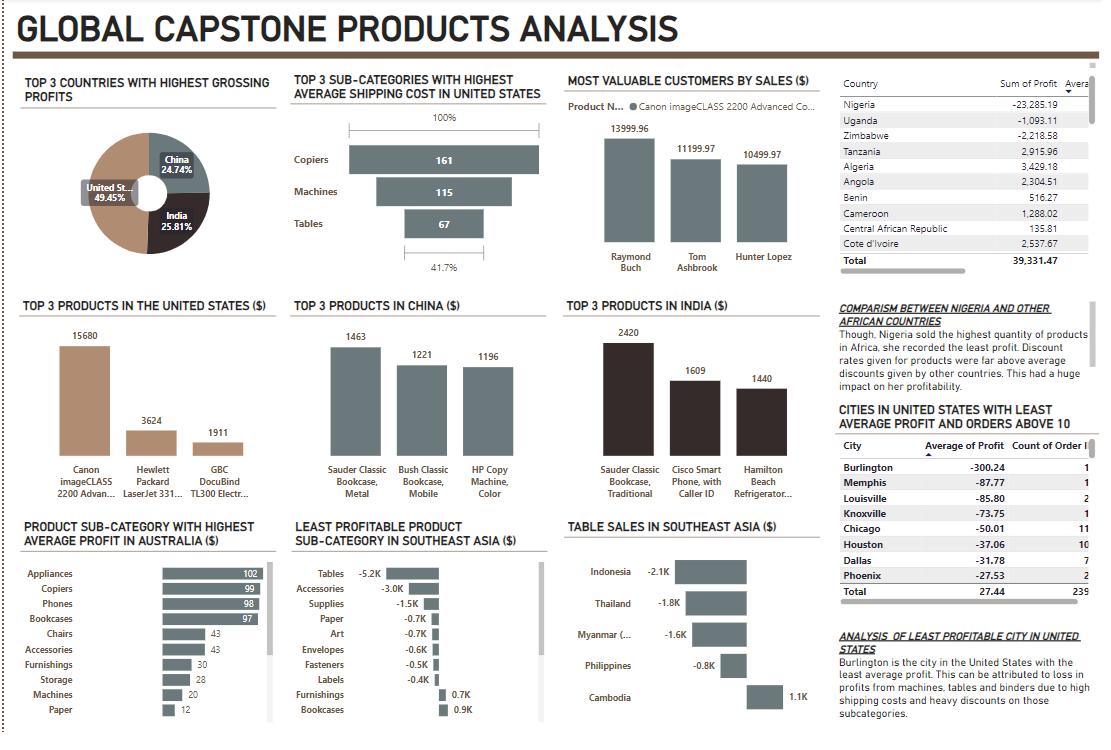

The page's visual inventory and layout, read from the dashboard file:
{"tool":"powerbi","page":{"name":"Page 1","canvas":[1500,1000],"ordinal":0},"visuals":[{"type":"donutChart","title":"TOP 3 COUNTRIES WITH HIGHEST GROSSING PROFITS","fields":{"Y":["Orders.Profit"],"Category":["Orders.Country","Orders.Order Date.Variation.Date Hierarchy.Year"]},"box":[22.1,100.2,348.2,280.2],"z":0},{"type":"clusteredColumnChart","title":"TOP 3 PRODUCTS IN THE UNITED STATES ($)","fields":{"Category":["Orders.Product Name"],"Series":["Orders.Country"],"Y":["Orders.Profit"]},"box":[20.4,407.6,349.9,280.2],"z":1000},{"type":"clusteredColumnChart","title":"TOP 3 PRODUCTS IN CHINA ($)","fields":{"Category":["Orders.Product Name"],"Y":["Orders.Profit"],"Series":["Orders.Country"]},"box":[389.5,408.5,348,280.2],"z":2000},{"type":"clusteredColumnChart","title":"TOP 3 PRODUCTS IN INDIA ($)","fields":{"Category":["Orders.Product Name"],"Series":["Orders.Country"],"Y":["Orders.Profit"]},"box":[758.6,407.6,349.9,280.2],"z":3000},{"type":"funnel","title":"TOP 3 SUB-CATEGORIES WITH HIGHEST AVERAGE SHIPPING COST IN UNITED STATES ($)","fields":{"Category":["Orders.Sub-Category","Orders.Country","Orders.Order Date.Variation.Date Hierarchy.Year"],"Y":["Orders.Shipping Cost"]},"box":[388.9,100.2,348.2,280.2],"z":4000},{"type":"textbox","title":"ANALYSIS","box":[1129.4,407.6,358.4,141],"z":5000},{"type":"textbox","title":"GLOBAL CAPSTONE PRODUCTS ANALYSIS IN 2014","box":[11.9,13.6,1475.9,86.6],"z":6000},{"type":"tableEx","title":"CITIES IN UNITED STATES WITH LEAST AVERAGE PROFIT AND ORDERS ABOVE 10","fields":{"Values":["Orders.City","Orders.Profit","Orders.Order ID"]},"box":[1129.4,548.6,358.4,280.2],"z":7000},{"type":"tableEx","title":"AFRICAN COUNTRIES PROFITABILITY ($)","fields":{"Values":["Orders.Country","Orders.Profit","Orders.Discount","Orders.Shipping Cost","Orders.Sales"]},"box":[1141.3,101.9,358.4,280.2],"z":8000},{"type":"clusteredBarChart","title":"LEAST PROFITABLE PRODUCT SUB-CATEGORY IN SOUTHEAST ASIA ($)","fields":{"Category":["Orders.Sub-Category","Orders.Order Date.Variation.Date Hierarchy.Year"],"Y":["Orders.Profit"]},"box":[390.6,708.2,348.2,280.2],"z":9000},{"type":"clusteredBarChart","title":"TABLE SALES IN SOUTHEAST ASIA ($)","fields":{"Category":["Orders.Country","Orders.Order Date.Variation.Date Hierarchy.Year"],"Series":["Orders.Sub-Category"],"Y":["Orders.Profit"]},"box":[760.9,708.2,348.2,280.2],"z":10000},{"type":"clusteredBarChart","title":"PRODUCT SUB-CATEGORY WITH HIGHEST AVERAGE PROFIT IN AUSTRALIA ($)","fields":{"Category":["Orders.Sub-Category","Orders.Order Date.Variation.Date Hierarchy.Year"],"Y":["Orders.Profit"]},"box":[22.1,708.2,348.2,280.2],"z":11000},{"type":"clusteredColumnChart","title":"MOST VALUABLE CUSTOMERS BY SALES ($)","fields":{"Category":["Orders.Customer Name","Orders.Order Date.Variation.Date Hierarchy.Year"],"Y":["Orders.Sales"],"Series":["Orders.Product Name"]},"box":[760.9,101.9,348.2,280.2],"z":12000},{"type":"textbox","box":[1129.4,852.6,358.4,135.9],"z":13000}]}

Visuals, with their boxes in screenshot pixels (x1, y1, x2, y2), scaled from the page's 1500x1000 canvas onto the 1111x750 screenshot:
"TOP 3 COUNTRIES WITH HIGHEST GROSSING PROFITS" donutChart: bbox=[16, 75, 274, 285]
"TOP 3 PRODUCTS IN THE UNITED STATES ($)" clusteredColumnChart: bbox=[15, 306, 274, 516]
"TOP 3 PRODUCTS IN CHINA ($)" clusteredColumnChart: bbox=[288, 306, 546, 517]
"TOP 3 PRODUCTS IN INDIA ($)" clusteredColumnChart: bbox=[562, 306, 821, 516]
"TOP 3 SUB-CATEGORIES WITH HIGHEST AVERAGE SHIPPING COST IN UNITED STATES ($)" funnel: bbox=[288, 75, 546, 285]
"ANALYSIS" textbox: bbox=[837, 306, 1102, 411]
"GLOBAL CAPSTONE PRODUCTS ANALYSIS IN 2014" textbox: bbox=[9, 10, 1102, 75]
"CITIES IN UNITED STATES WITH LEAST AVERAGE PROFIT AND ORDERS ABOVE 10" tableEx: bbox=[837, 411, 1102, 622]
"AFRICAN COUNTRIES PROFITABILITY ($)" tableEx: bbox=[845, 76, 1110, 287]
"LEAST PROFITABLE PRODUCT SUB-CATEGORY IN SOUTHEAST ASIA ($)" clusteredBarChart: bbox=[289, 531, 547, 741]
"TABLE SALES IN SOUTHEAST ASIA ($)" clusteredBarChart: bbox=[564, 531, 821, 741]
"PRODUCT SUB-CATEGORY WITH HIGHEST AVERAGE PROFIT IN AUSTRALIA ($)" clusteredBarChart: bbox=[16, 531, 274, 741]
"MOST VALUABLE CUSTOMERS BY SALES ($)" clusteredColumnChart: bbox=[564, 76, 821, 287]
textbox: bbox=[837, 639, 1102, 741]
